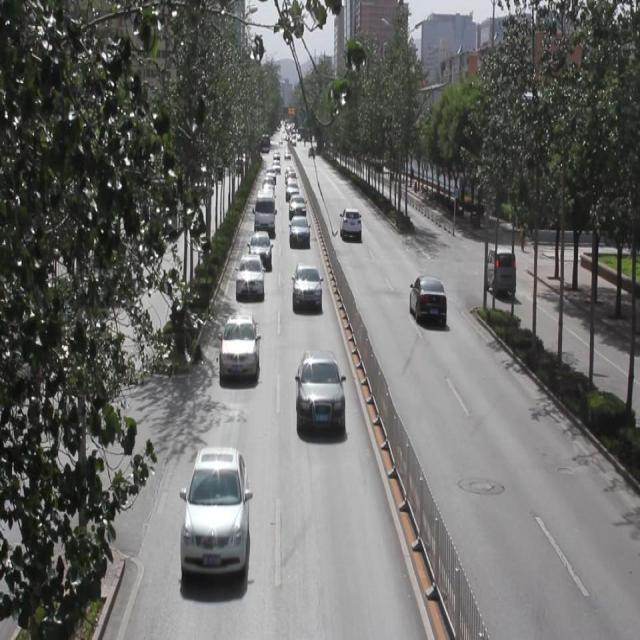car: (182, 446, 250, 573), (295, 349, 344, 424), (218, 312, 258, 379), (408, 272, 444, 324), (292, 262, 322, 309), (235, 252, 264, 298), (248, 230, 271, 270), (339, 206, 360, 242), (288, 213, 310, 246), (288, 193, 306, 221)
truck: (485, 245, 516, 298), (253, 188, 275, 236)
